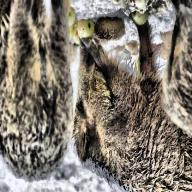boar: (74, 36, 191, 192)
